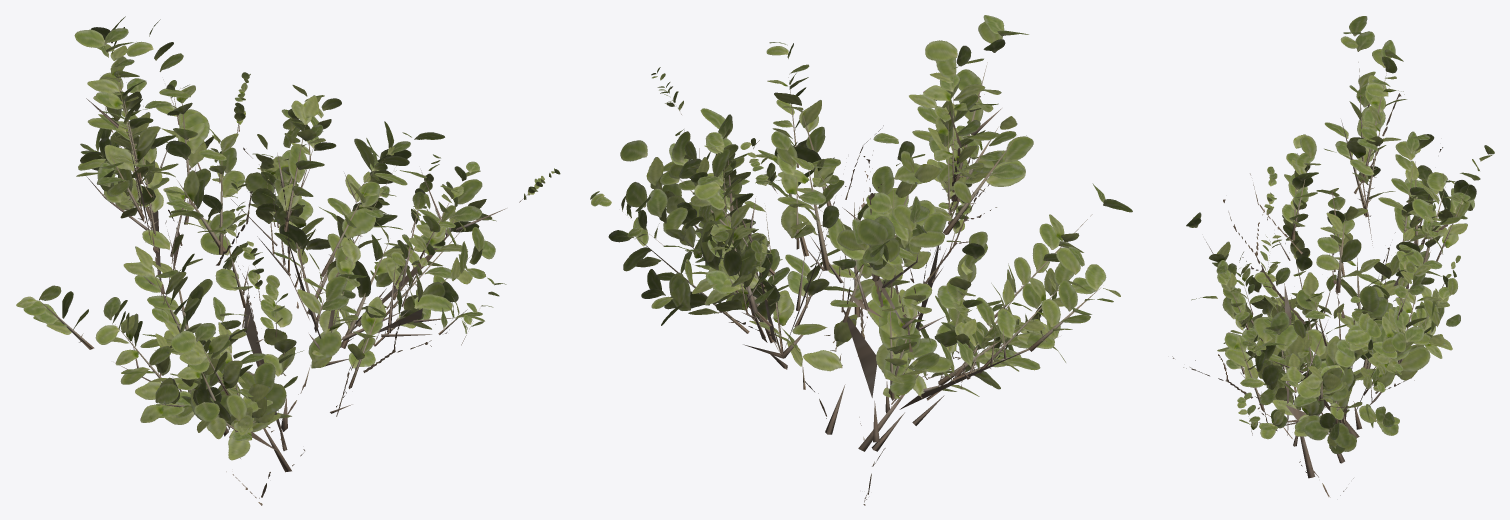
File: ph_shrub_1.glb
3 renders of one model, left to right at view 1: azimuth 30°, elevation 25°; view 2: azimuth 150°, elevation 25°; view 3: azimuth 270°, elevation 25°, orthographic. The views are drawn at different scales.
Visible parts, largest first — view 1: ph_shrub_1_lod1; view 2: ph_shrub_1_lod1; view 3: ph_shrub_1_lod1.
Boxes of the visible parts, x1,y1,x2,y2 form: ph_shrub_1_lod1: (16, 16, 560, 505); ph_shrub_1_lod1: (590, 15, 1132, 505); ph_shrub_1_lod1: (1172, 16, 1494, 497).
Size of the model in its own units: 1.03 by 1 by 0.7159.
3 materials, 3 textured.
